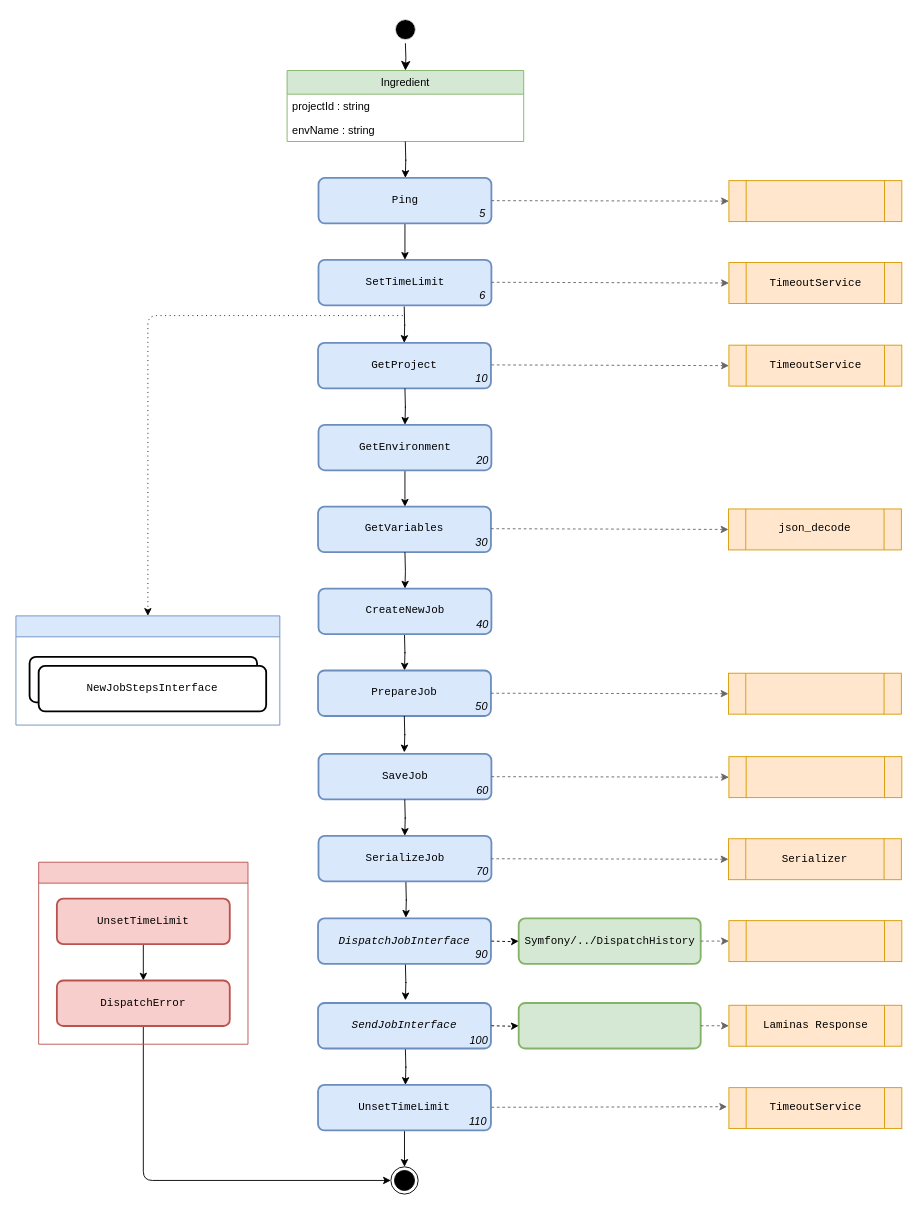
This 918x1210 diagram has some shape labels left out. The centre of each missing label's shape, as x and y in pixels:
"JobWriter" belongs at (x=815, y=777).
"Laminas/../ SendJobInterface" belongs at (x=609, y=1025).
"On Error" belongs at (x=143, y=952).
"PingService" belongs at (x=815, y=201).
"Project:: prepareJob" belongs at (x=814, y=693).
"Symfony/Messenger" belongs at (x=815, y=941).
"To extends, add step in" belongs at (x=147, y=670).
